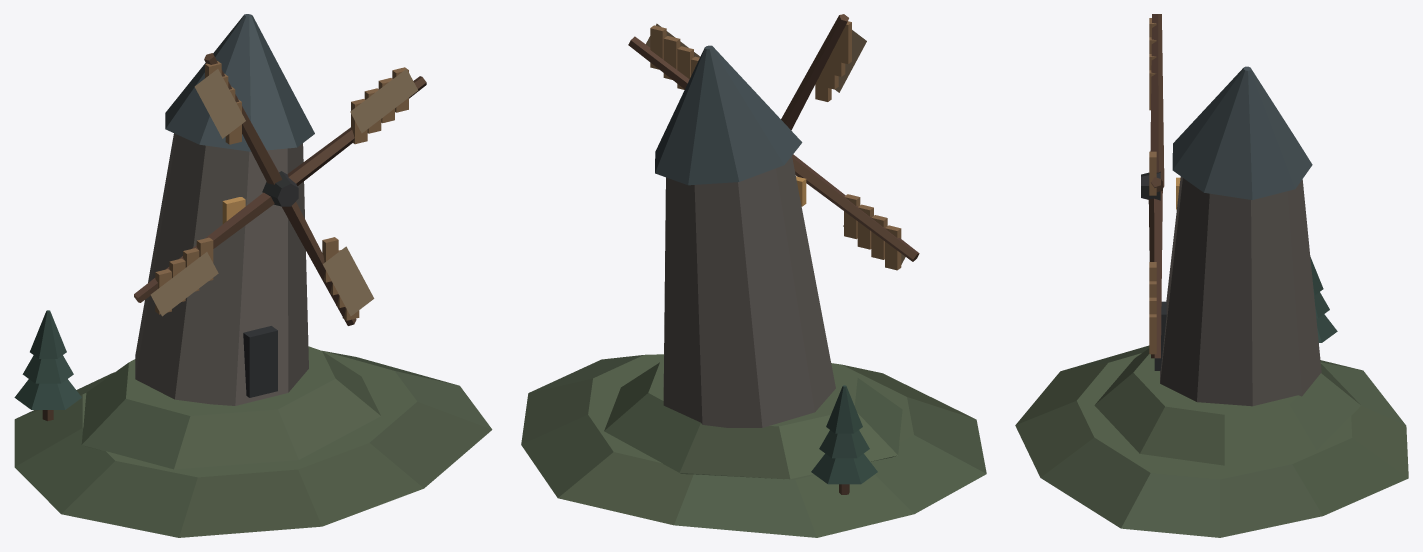
The model's file is bonegrinder.glb.
3 renders of one model, left to right at view 1: azimuth 30°, elevation 25°; view 2: azimuth 150°, elevation 25°; view 3: azimuth 270°, elevation 25°, orthographic. The views are drawn at different scales.
Visible parts, largest first — view 1: Old Bonegrinder · atlas landmark; view 2: Old Bonegrinder · atlas landmark; view 3: Old Bonegrinder · atlas landmark.
Boxes of the visible parts, x1,y1,x2,y2 form: Old Bonegrinder · atlas landmark: (14, 14, 492, 537); Old Bonegrinder · atlas landmark: (521, 14, 986, 537); Old Bonegrinder · atlas landmark: (1015, 14, 1408, 537).
Size of the model in its own units: 2.05 by 1.99 by 1.74.
